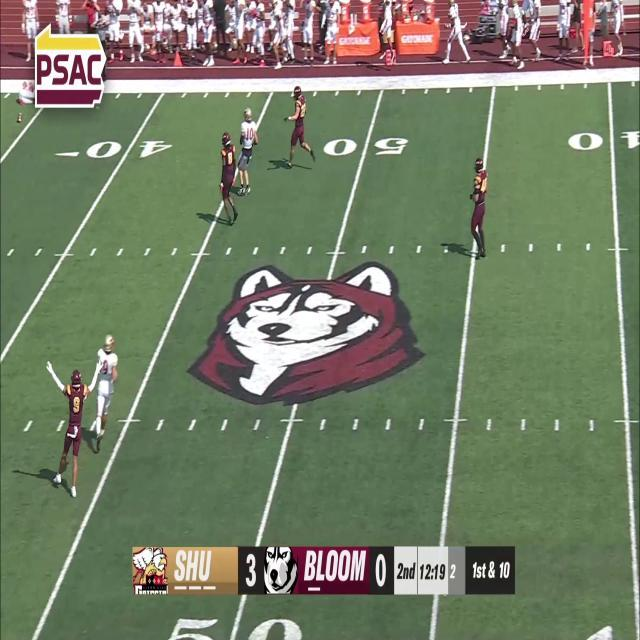football: (15, 111, 22, 124)
